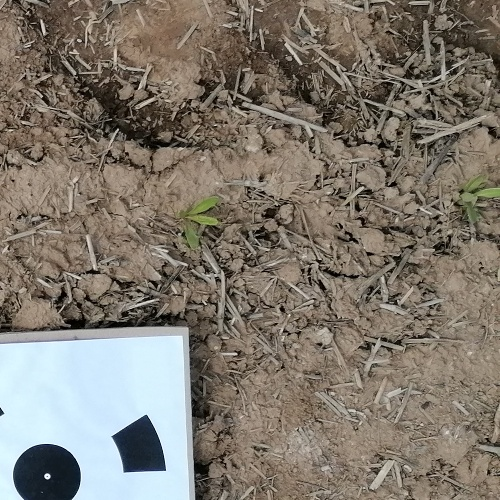beet: (176, 194, 220, 251), (458, 172, 500, 225)
